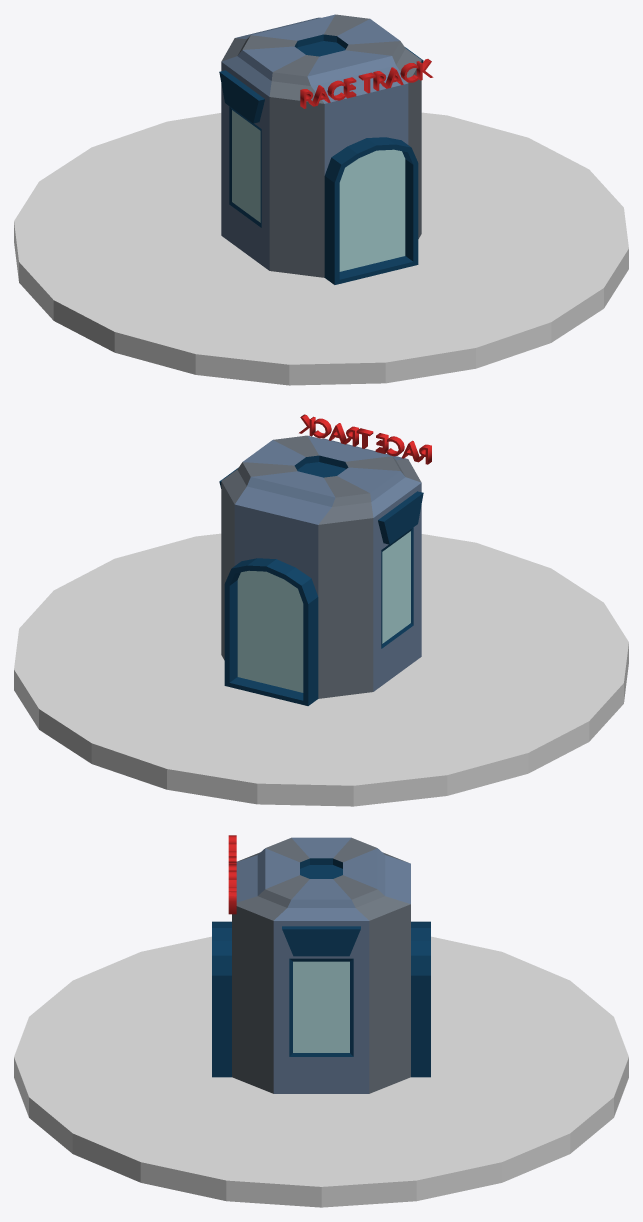
Rendered from Race_track.fbx.
3 views of the same model, one above another, from view 1: azimuth 30°, elevation 25°; view 2: azimuth 150°, elevation 25°; view 3: azimuth 270°, elevation 25° (orthographic).
Visible parts, largest first — view 1: Race_track, Text; view 2: Race_track, Text; view 3: Race_track, Text.
Part boxes in pixels (x1=…): Race_track: x1=14, y1=14, x2=628, y2=385; Text: x1=300, y1=59, x2=433, y2=108; Race_track: x1=14, y1=435, x2=628, y2=806; Text: x1=299, y1=414, x2=431, y2=464; Race_track: x1=14, y1=837, x2=628, y2=1207; Text: x1=228, y1=835, x2=236, y2=914.
Bounding box in the file's own units: 641 × 243 × 641.
2 materials, 1 textured.
